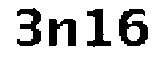1: (83, 6, 115, 50)
3: (12, 7, 43, 49)
6: (116, 6, 153, 49)
n: (45, 15, 79, 49)
